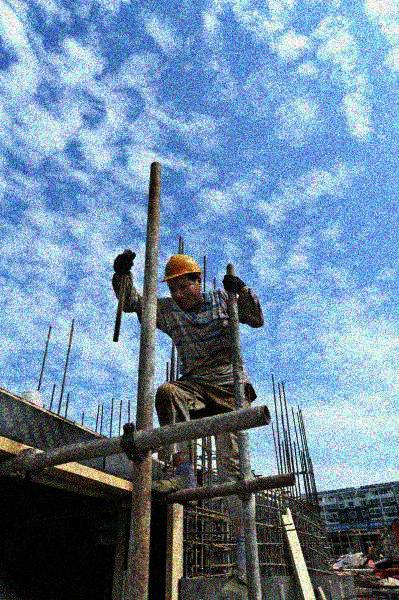helmet: (158, 253, 206, 310)
